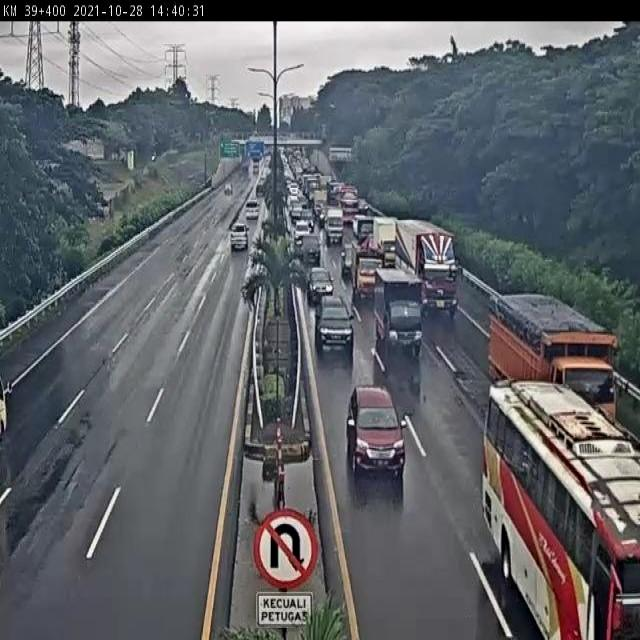Bus: (474, 368, 640, 640)
Car: (346, 385, 406, 494), (315, 297, 354, 358), (307, 266, 334, 305), (298, 233, 320, 267), (230, 222, 248, 250), (294, 220, 312, 247), (302, 172, 319, 199), (268, 147, 286, 171), (315, 174, 331, 200), (327, 180, 343, 202), (289, 203, 305, 224), (244, 199, 260, 220), (287, 184, 300, 208), (343, 186, 358, 203), (262, 151, 273, 173), (314, 200, 325, 220), (256, 177, 266, 197), (302, 158, 311, 174), (252, 161, 260, 175)
Truck: (491, 292, 618, 418), (392, 205, 463, 312), (374, 269, 423, 359)
